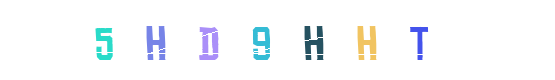5: (124, 0, 204, 80)
9: (238, 0, 318, 80)
D: (191, 0, 271, 80)
H: (144, 0, 224, 80), (274, 0, 354, 80), (327, 0, 407, 80)
T: (379, 0, 459, 80)
